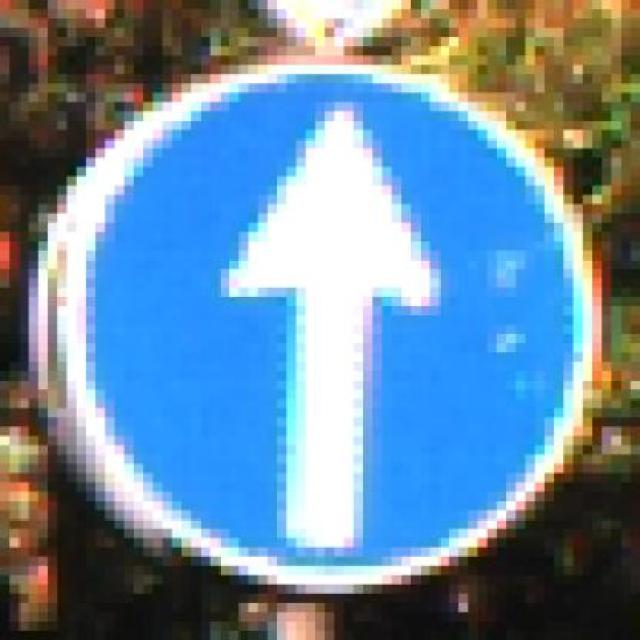Straight Ahead Only: (38, 56, 612, 593)
